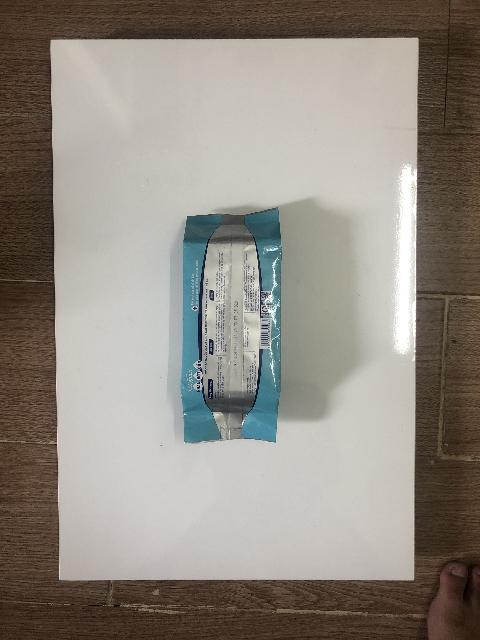Let-green_alcohol_wipes: (180, 209, 282, 445)
